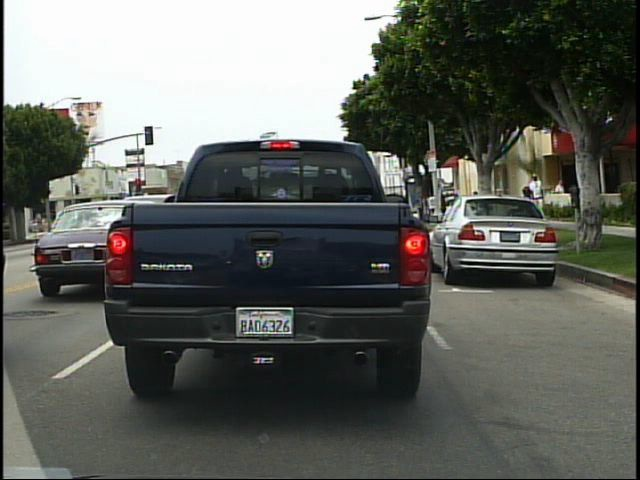person: (525, 171, 549, 221), (550, 176, 570, 218)
